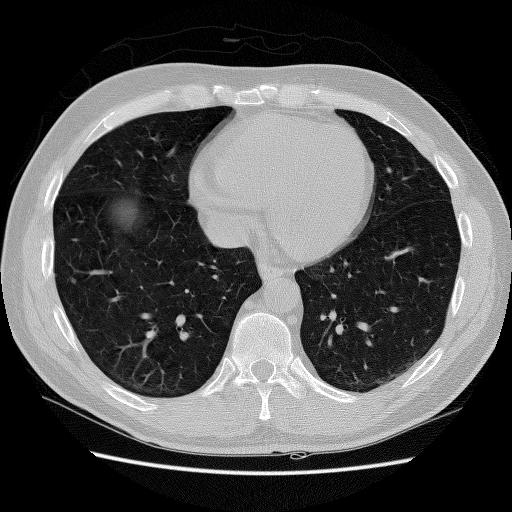nodule: (68, 275, 79, 286)
